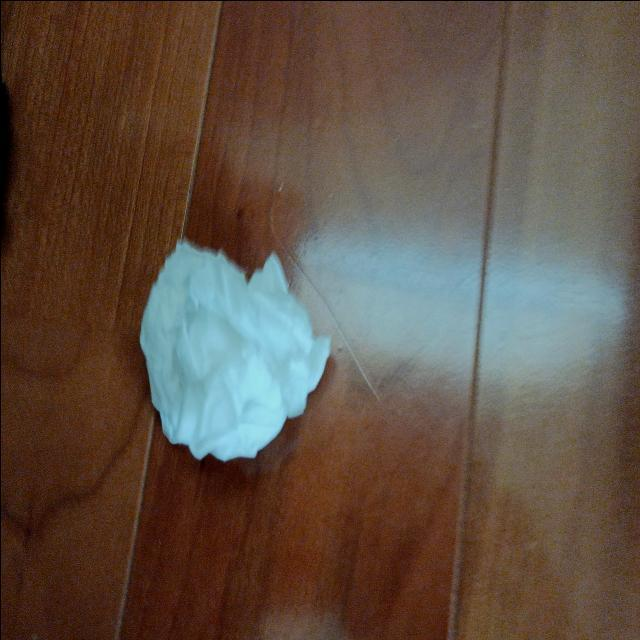Paper: (142, 237, 320, 444)
